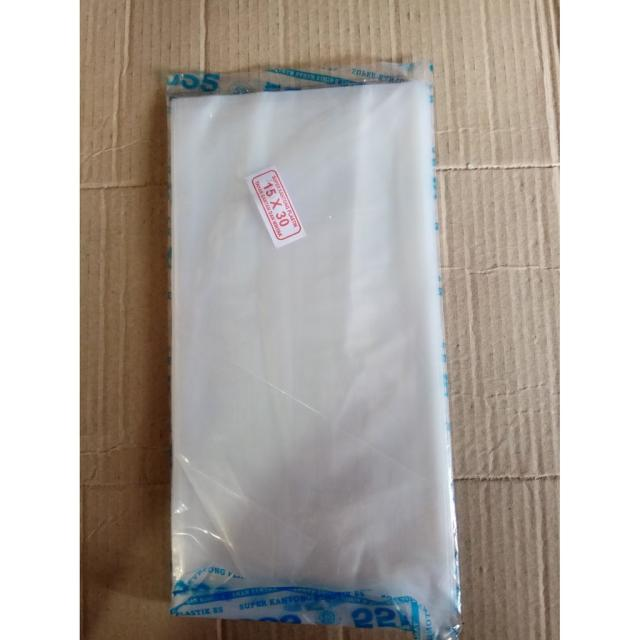Anorganik: (125, 44, 478, 640)
